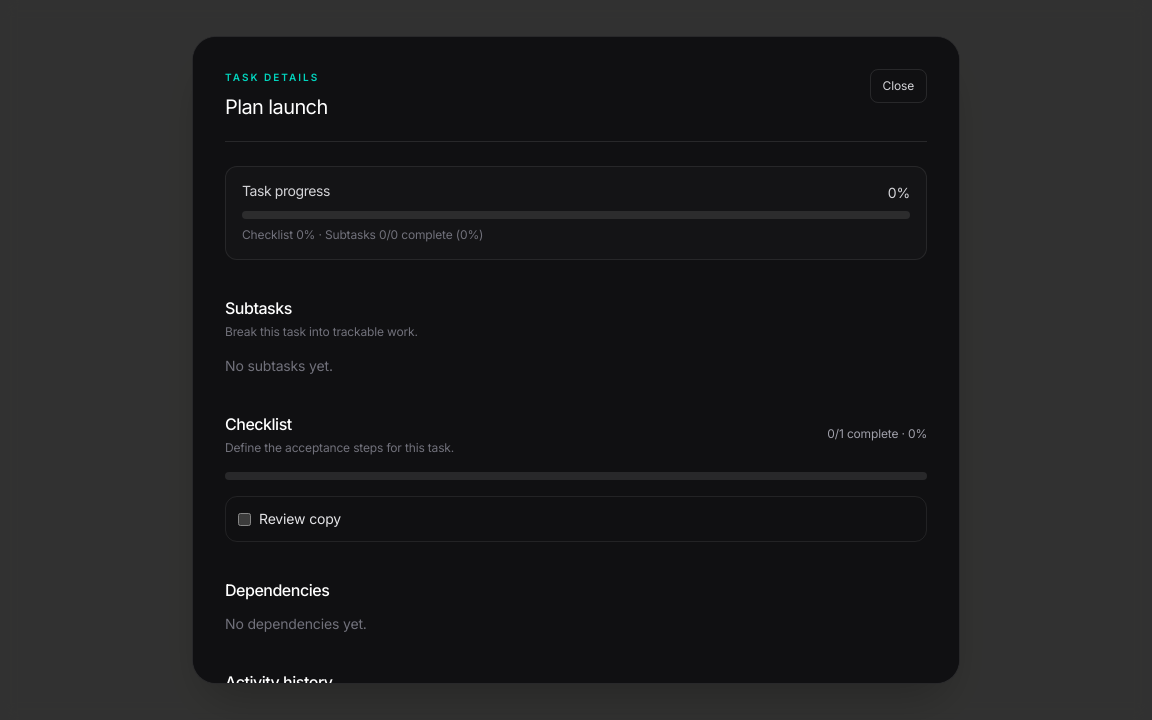
Test: task details GraphQL integration › keeps checklist state and shows a mutation error when completion fails
What coordinates should you click on to do the following:
click the checkbox named "Complete Review copy"
I would click on:
 (244, 519)
Its box is [238, 512, 251, 526].
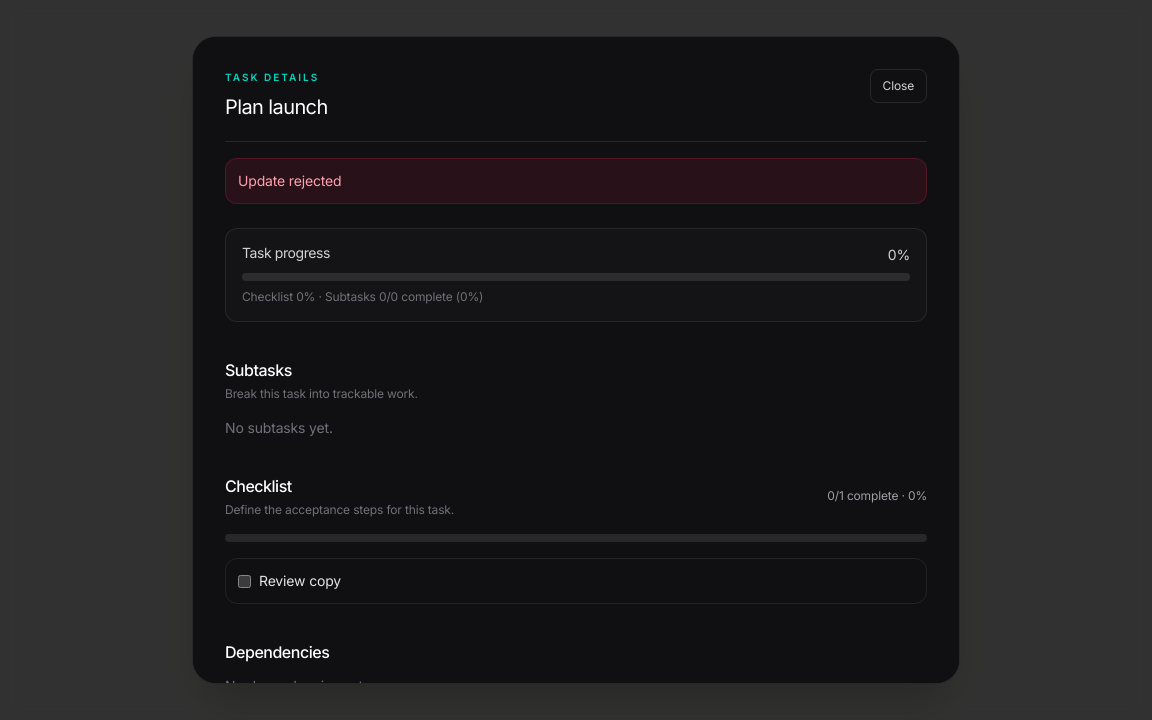
expect the checkbox named "Complete Review copy" is not checked: met, box [238, 574, 251, 588]
expect the text "Update rejected" is shown: met, box [225, 158, 927, 204]
